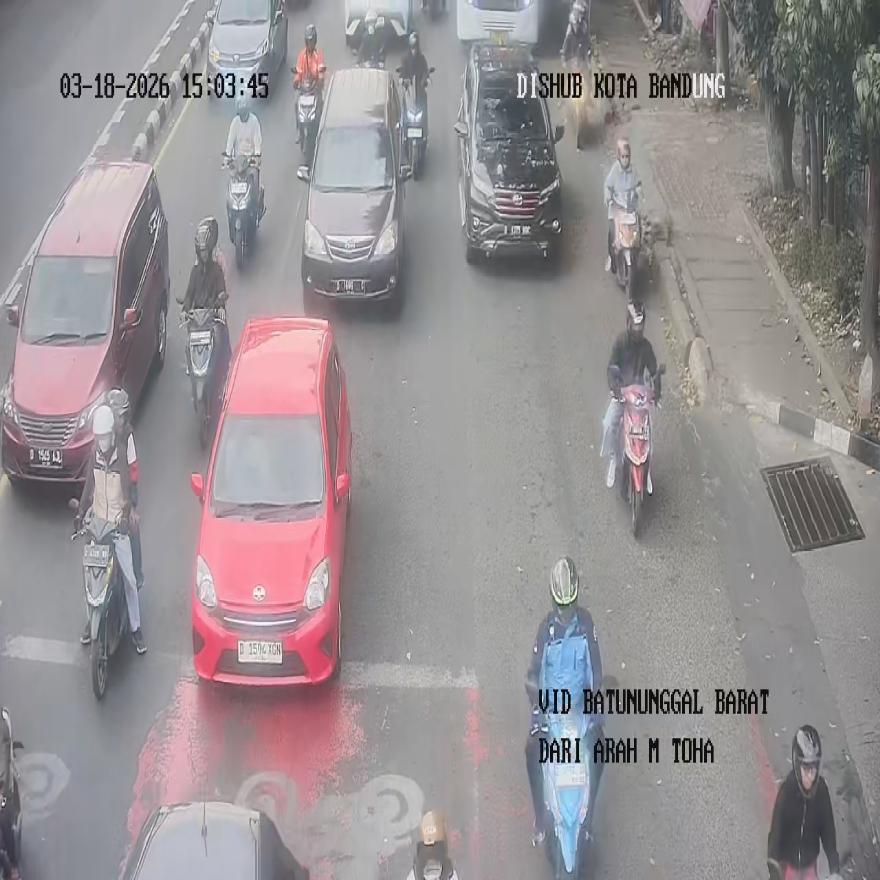Motor: (190, 316, 351, 684), (0, 160, 169, 485), (297, 66, 410, 304), (454, 39, 564, 262), (207, 0, 288, 98), (457, 0, 539, 49)
Truk: (70, 498, 140, 700), (540, 709, 600, 880), (619, 364, 664, 537), (180, 306, 230, 448), (224, 152, 262, 268), (0, 706, 23, 878), (398, 67, 433, 180), (406, 810, 458, 880), (292, 65, 324, 171), (609, 207, 642, 300), (358, 7, 387, 69)
